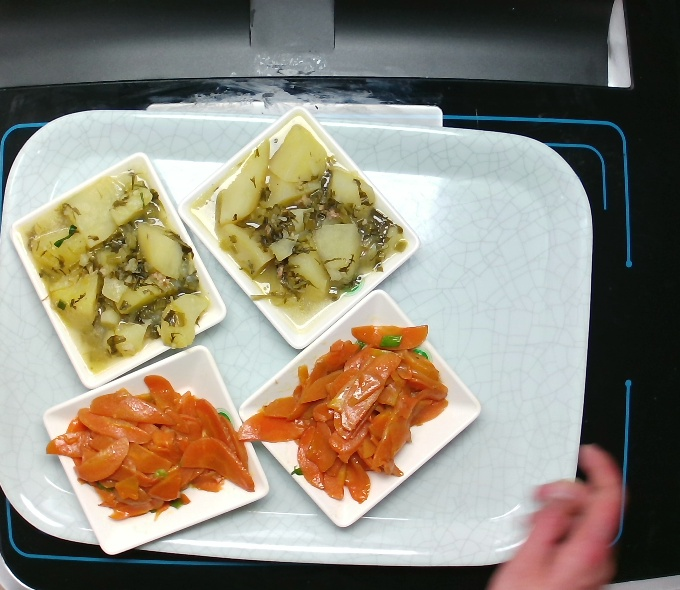wcq-HuLuoBo: (231, 322, 451, 509), (29, 367, 253, 526)
wcq-XueCaiTuDou: (209, 121, 415, 317), (21, 169, 213, 374)
